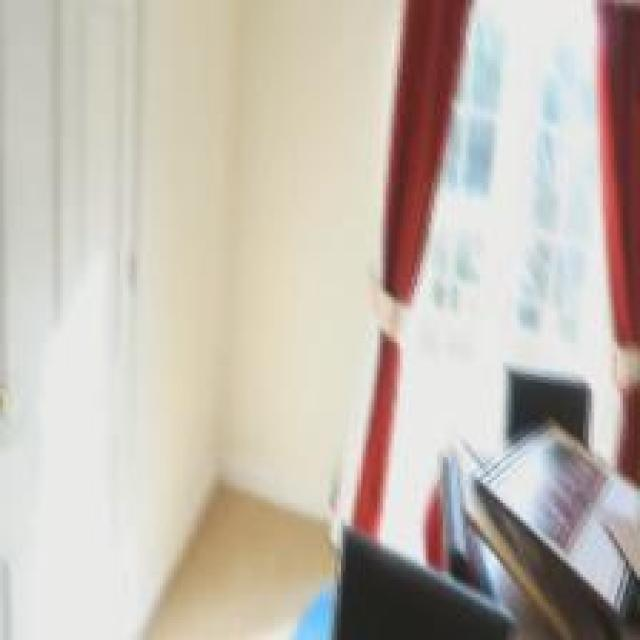other: (363, 15, 433, 493), (583, 0, 634, 463)
